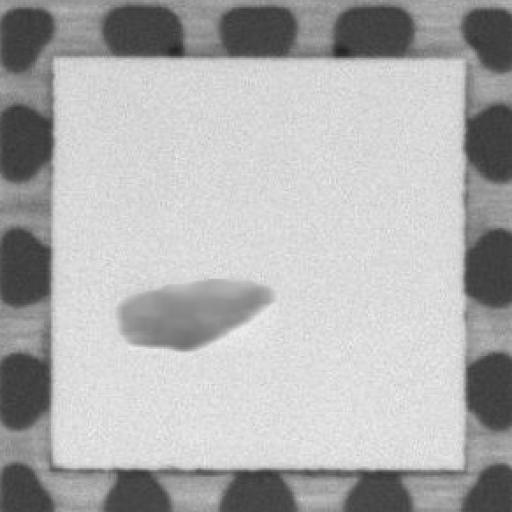DIE_INK: (108, 273, 274, 349)
